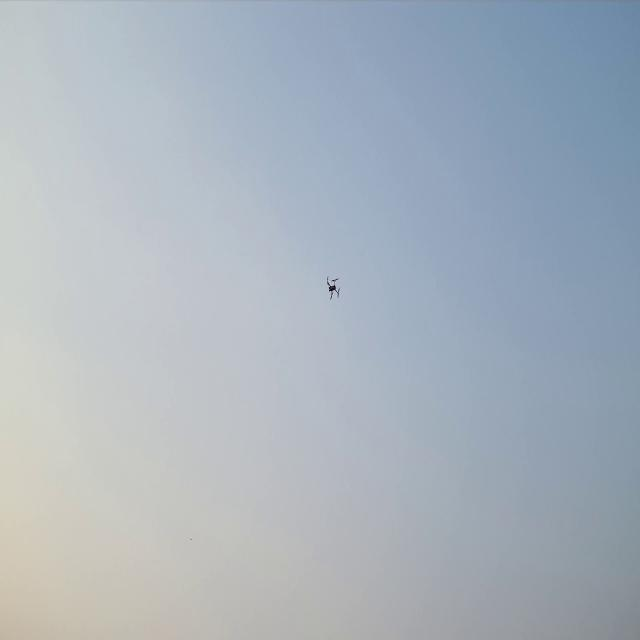UAV: (324, 270, 342, 304)
